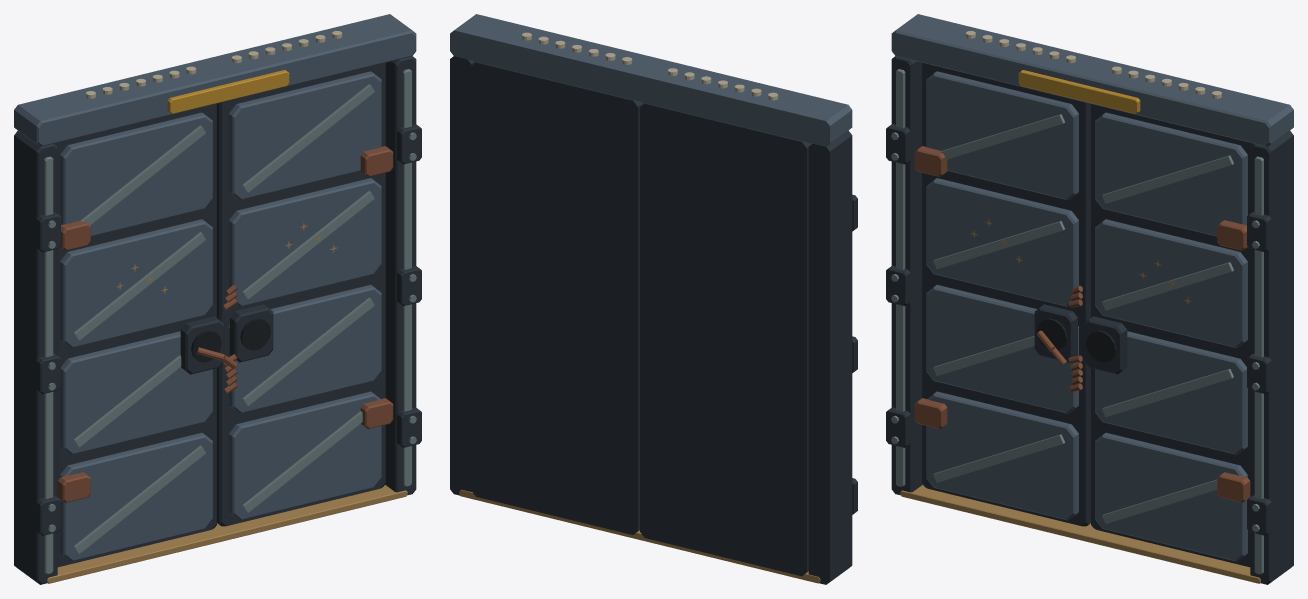
File: A-13_well_gate_broken.glb
3 views of the same model, side by side, from view 1: azimuth 30°, elevation 25°; view 2: azimuth 150°, elevation 25°; view 3: azimuth 330°, elevation 25° (orthographic).
Parts seen in each view (by area): view 1: A-13_well_gate_broken; view 2: A-13_well_gate_broken; view 3: A-13_well_gate_broken.
Part boxes in pixels (x1,y1,x2,y2): A-13_well_gate_broken: (14, 14, 421, 584); A-13_well_gate_broken: (450, 14, 857, 584); A-13_well_gate_broken: (886, 14, 1293, 584).
Size of the model in its own units: 2.17 by 2.54 by 0.372.
